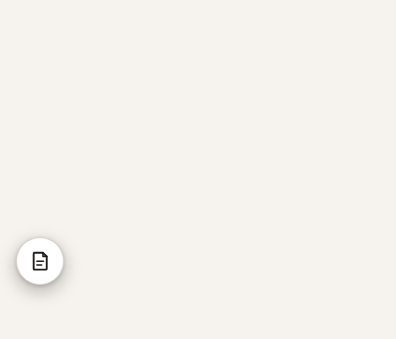
Test: Scratchpad › Escape minimises and returns focus to the button
Click the button with test id "scratchpad-toggle": (40, 261) x1=16 y1=237 x2=64 y2=285
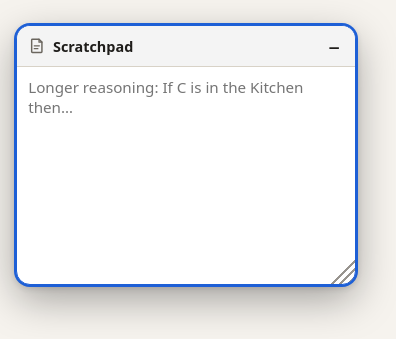
Press Escape in the text box with test id "scratchpad-text", box x1=17 y1=67 x2=355 y2=284
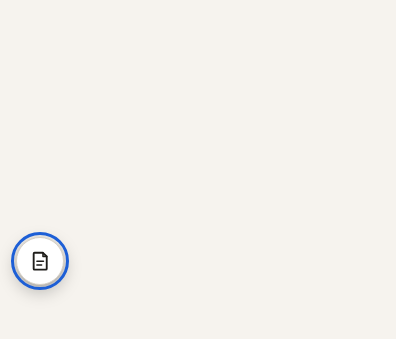
Check: the element with test id "scratchpad-panel" is gone
